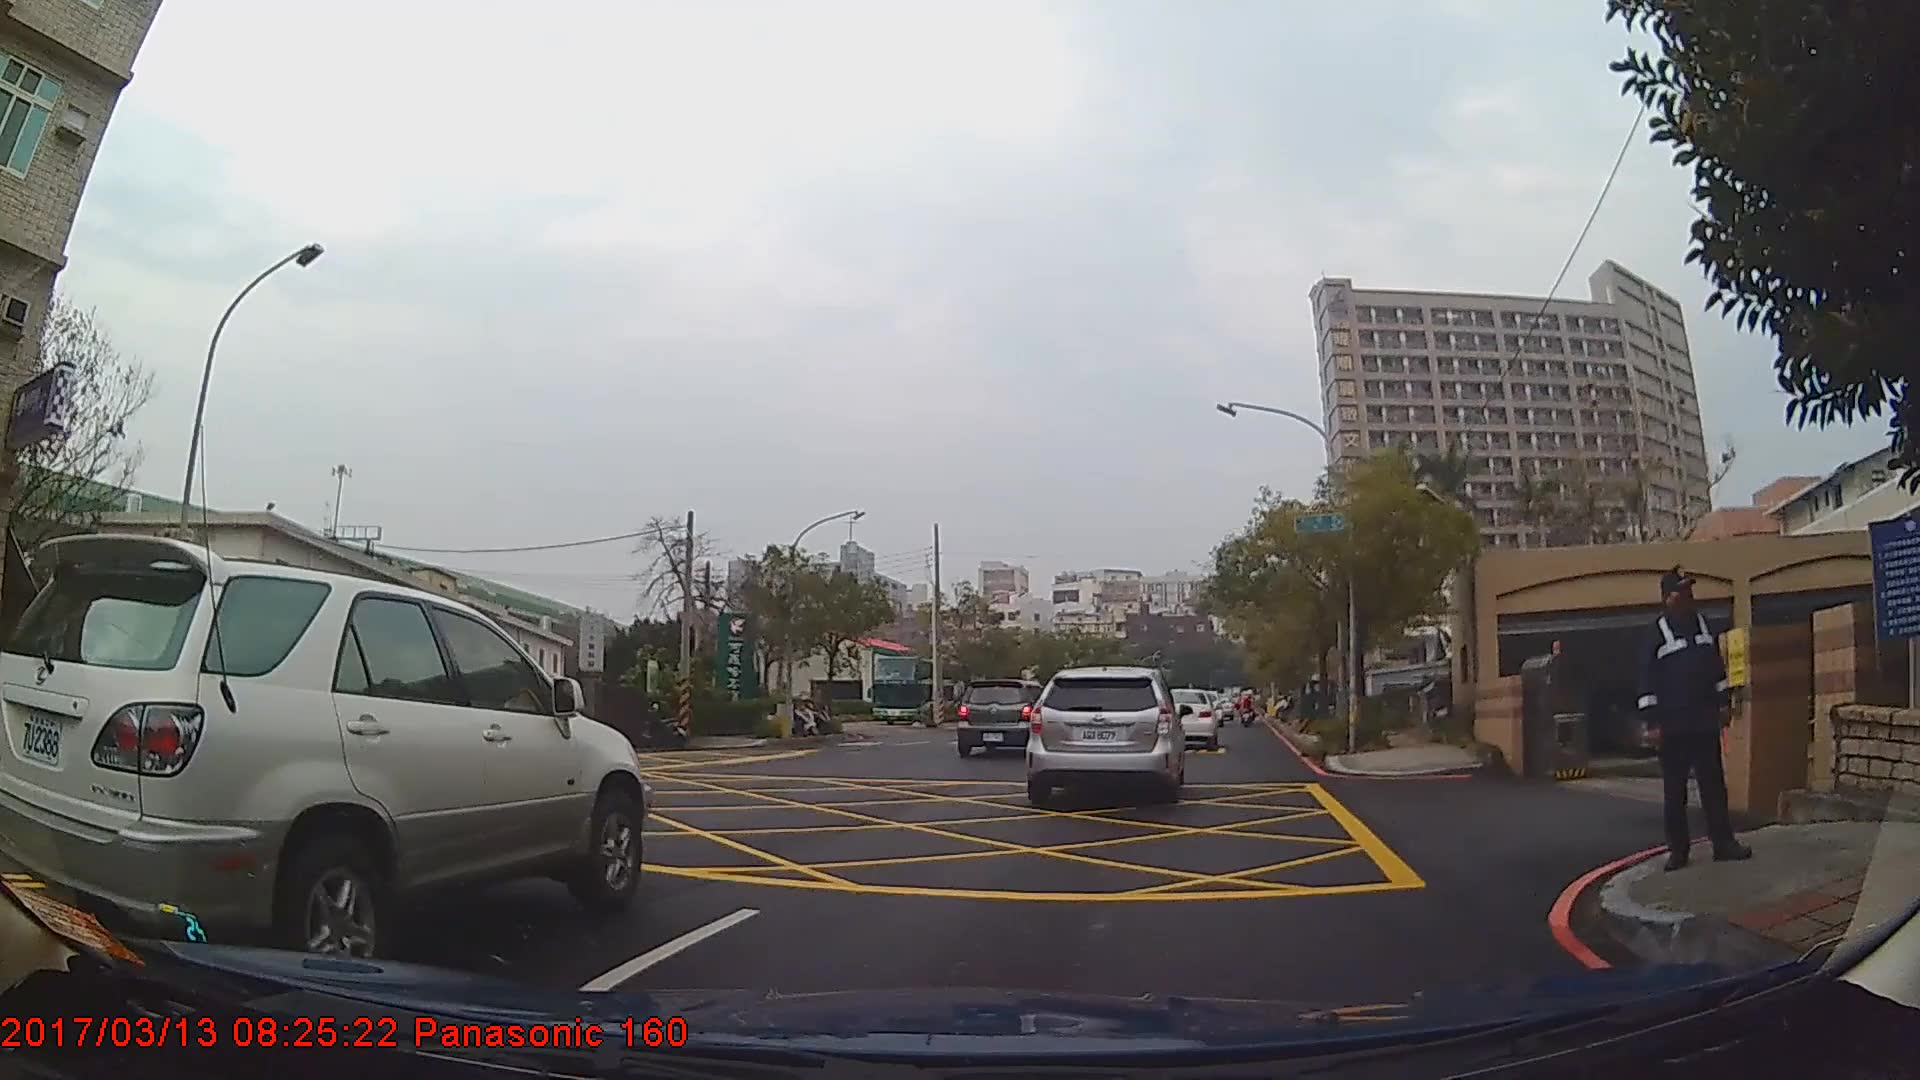pedestrian: (1640, 565, 1756, 872)
vehicle: (0, 534, 651, 976), (1024, 664, 1185, 809), (954, 680, 1062, 754), (868, 657, 968, 728), (1154, 689, 1219, 752)
